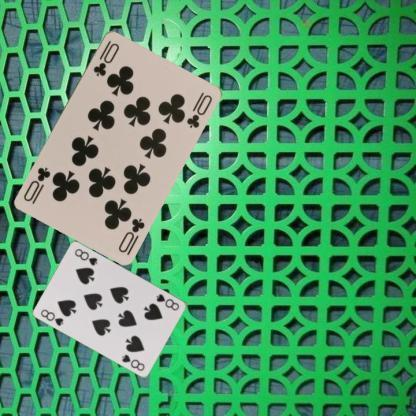10c: (90, 37, 121, 77), (116, 216, 146, 254)
8s: (38, 306, 65, 327), (154, 292, 180, 312)
